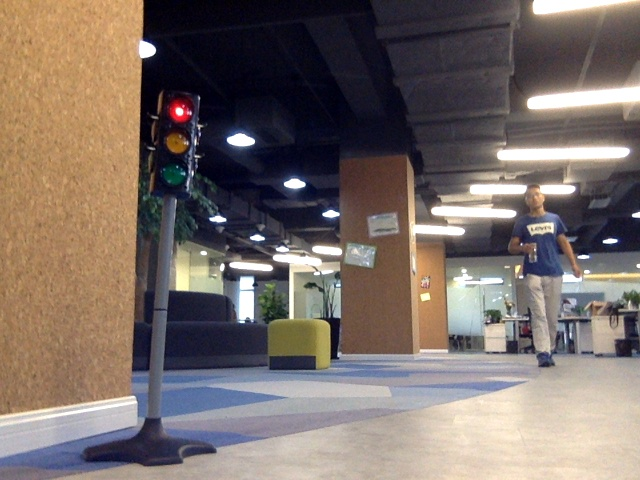red: (160, 94, 190, 186)
